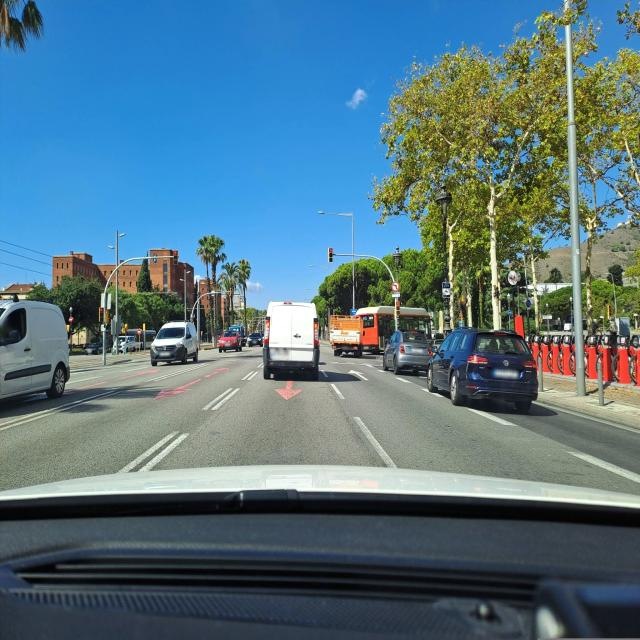car: (426, 327, 539, 412), (0, 294, 71, 424), (262, 300, 320, 381), (382, 329, 432, 375), (149, 320, 199, 365), (218, 330, 242, 352), (114, 335, 138, 354), (248, 332, 264, 346), (90, 342, 103, 354)
